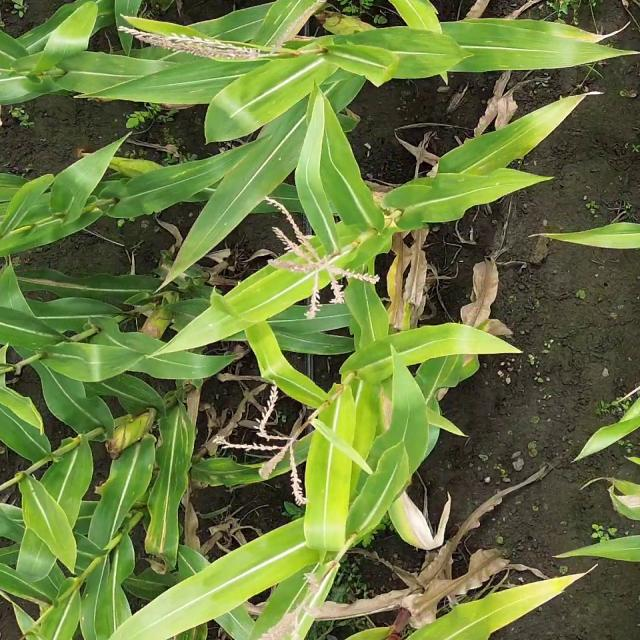gray-leaf-spot: (141, 413, 195, 529), (81, 362, 173, 430), (242, 0, 328, 63), (475, 22, 561, 75)
northern-leaf-blight: (374, 480, 484, 566)
southern-leaf-blight: (420, 114, 559, 205)
